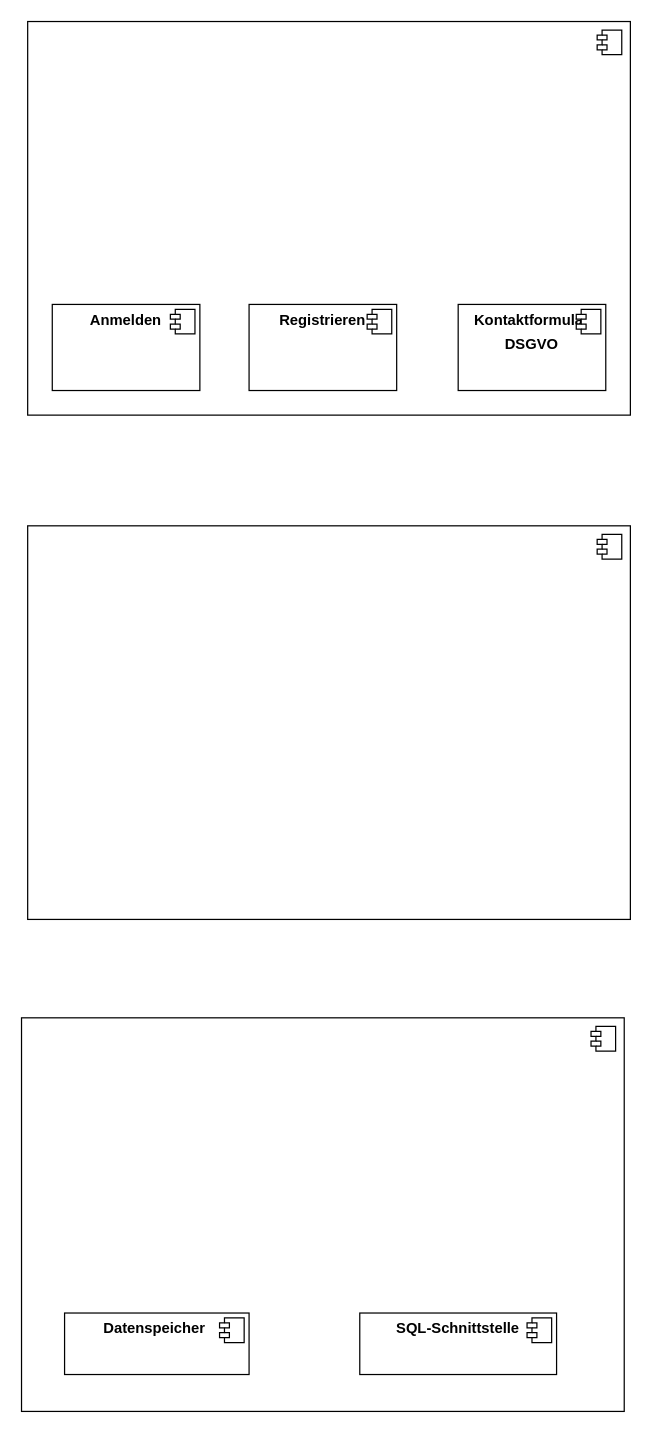
This 652x1433 diagram has some shape labels left out. The box of each missing label's shape, as (x1, y1, x2, y2) in pixels:
Client: (26, 20, 630, 415)
Datenbankmanagement: (20, 1017, 624, 1411)
Service: (26, 525, 630, 919)
